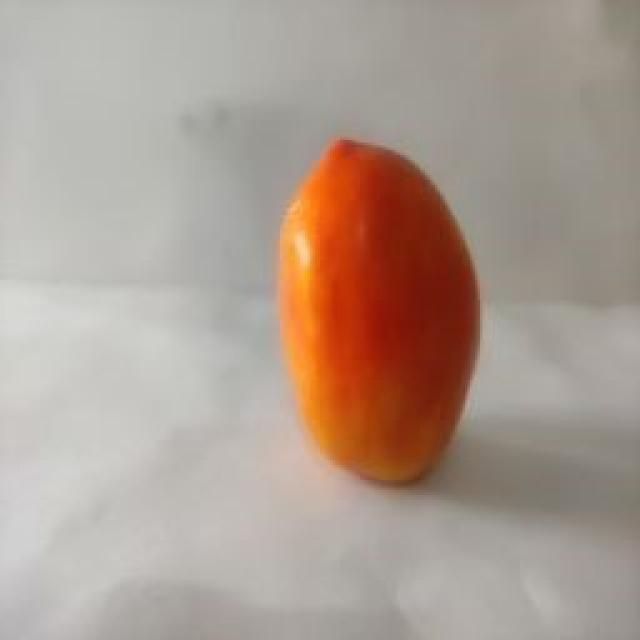Ripe: (270, 134, 492, 493)
